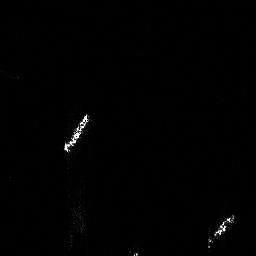ship: (61, 111, 93, 155), (205, 212, 238, 247)
